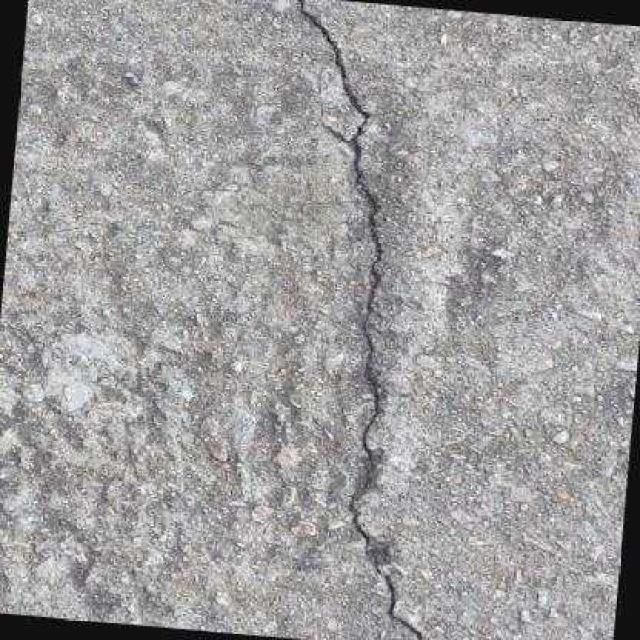D00: (292, 0, 428, 640)
